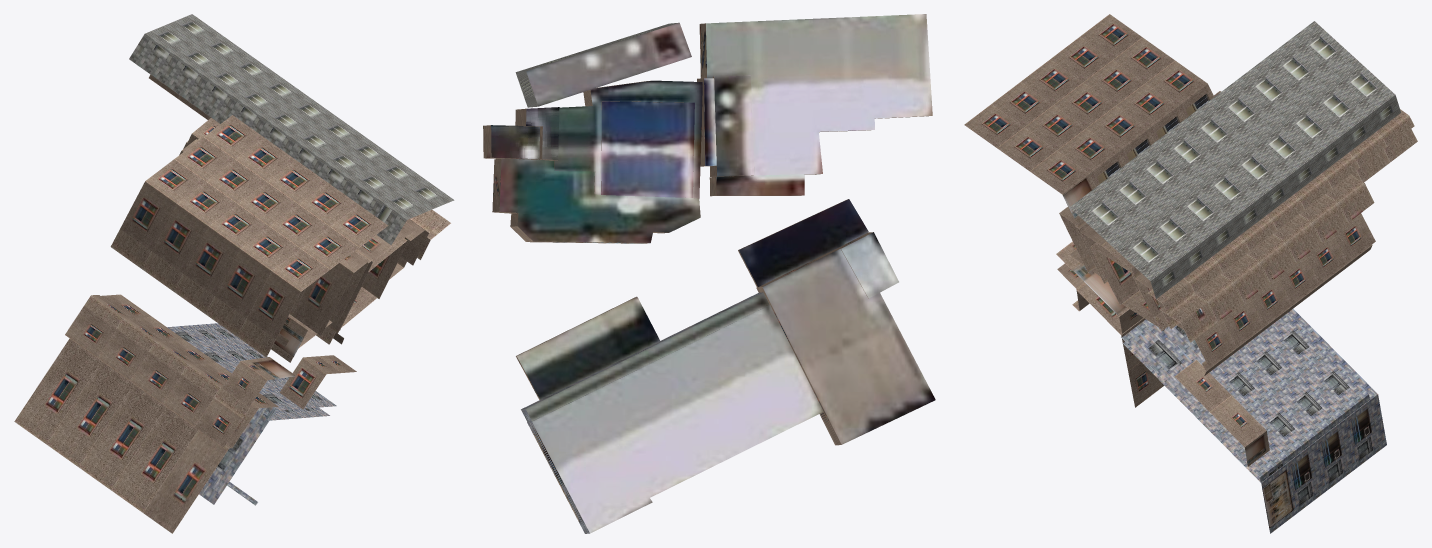
The picture shows the model from 3 angles, left to right: view 1: azimuth 30°, elevation 25°; view 2: azimuth 150°, elevation 25°; view 3: azimuth 270°, elevation 25°; orthographic projection. The views are drawn at different scales.
Bounding box in the file's own units: 42.84 × 47.64 × 42.23.
55 materials, 55 textured.
